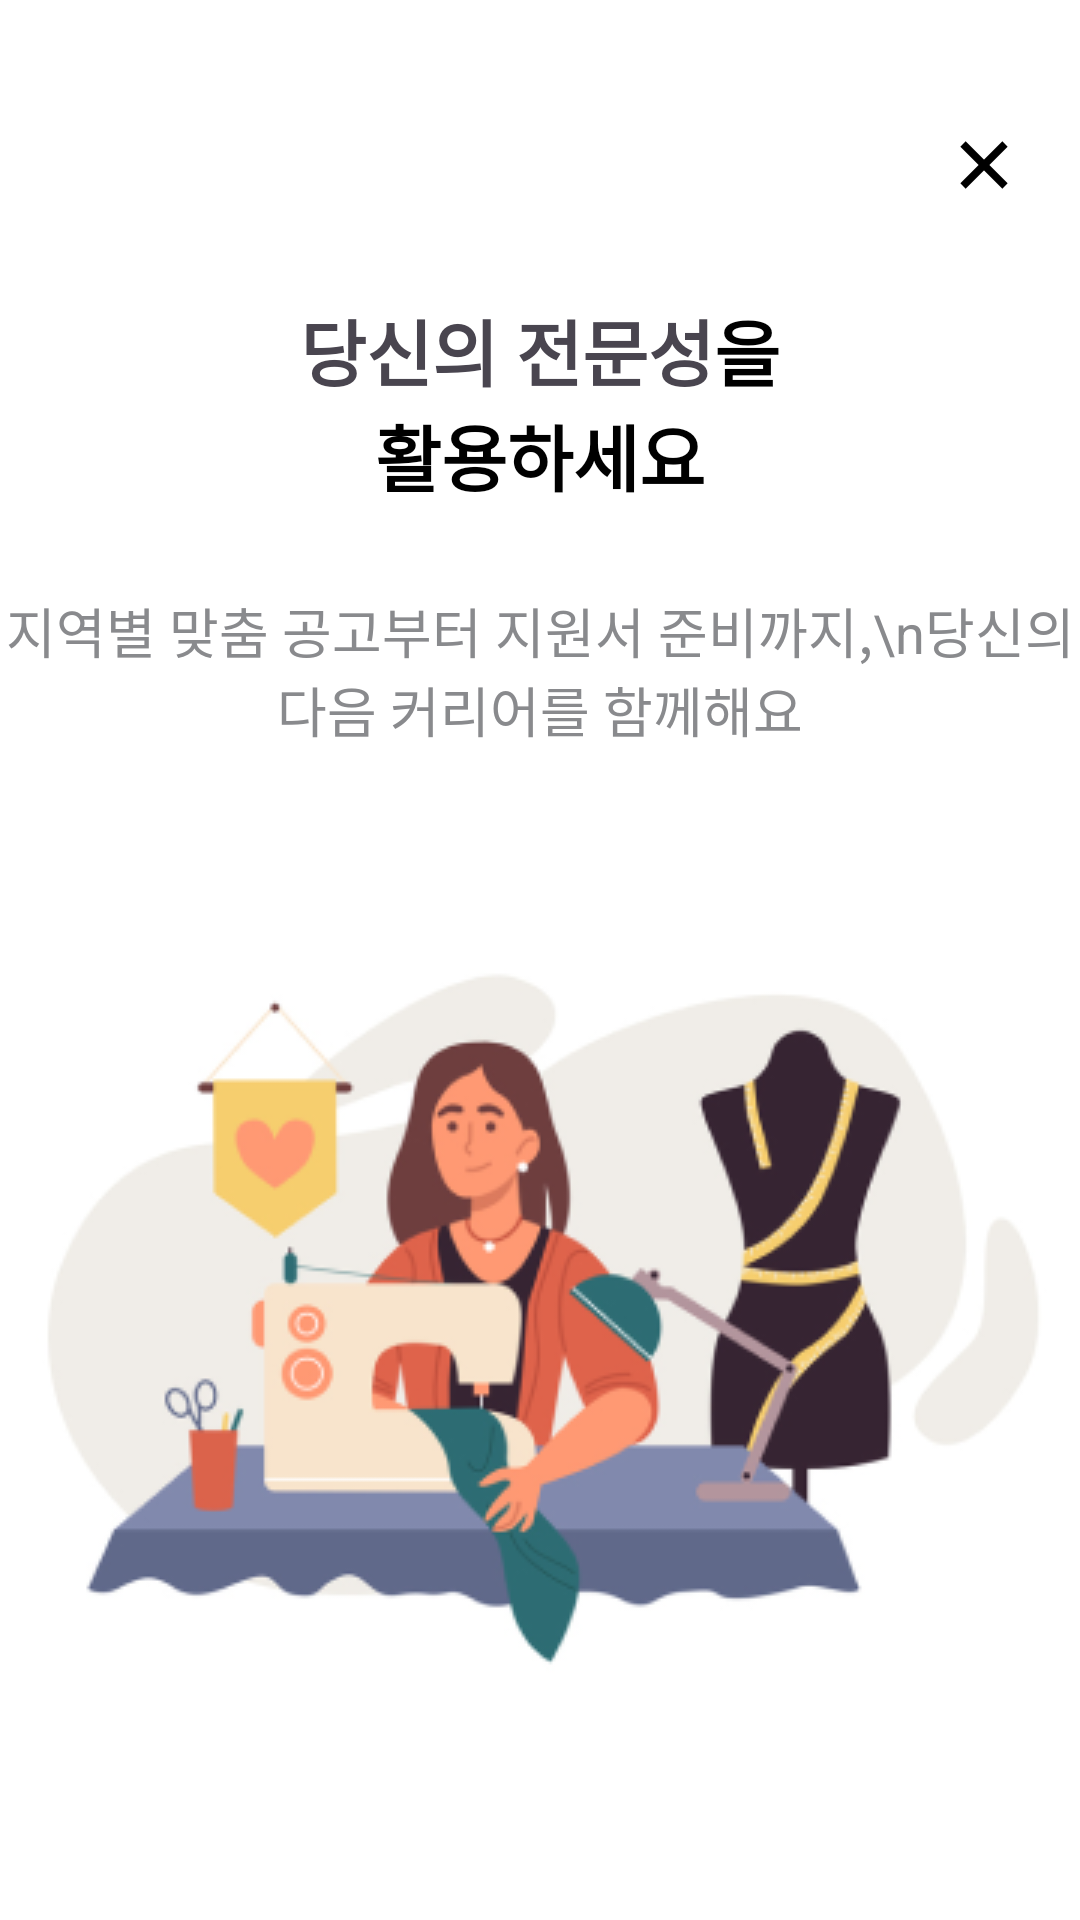

Icons on this 1080px×1920px Android screen, each with its box as (x1, y1, x2, y2):
cancle: (960, 141, 1008, 189)
